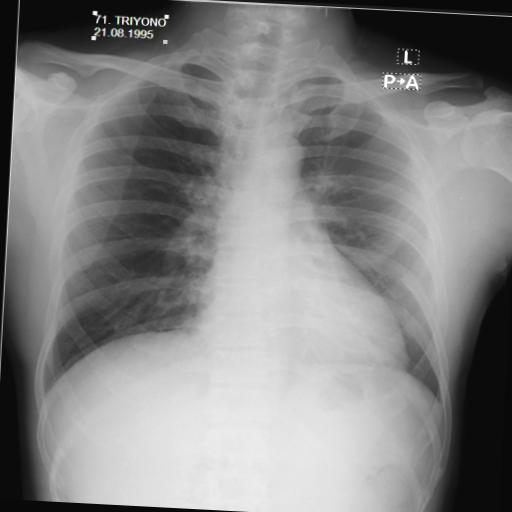kardiomegali: (24, 26, 472, 428)
